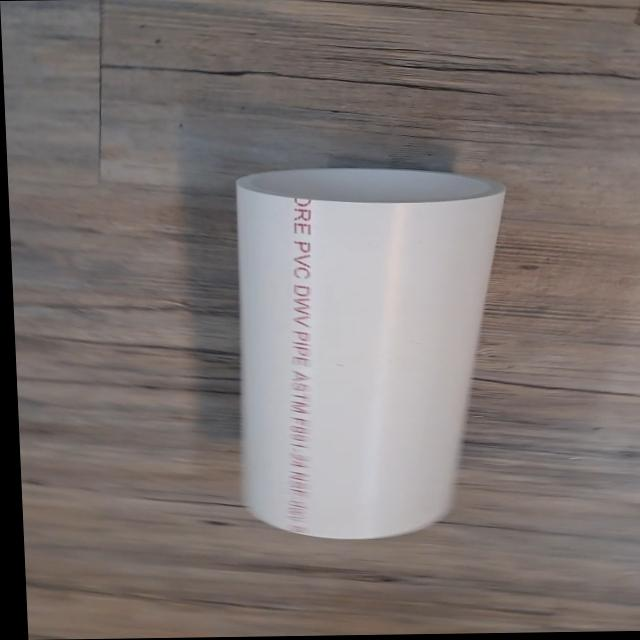CORAL: (220, 161, 531, 547)
